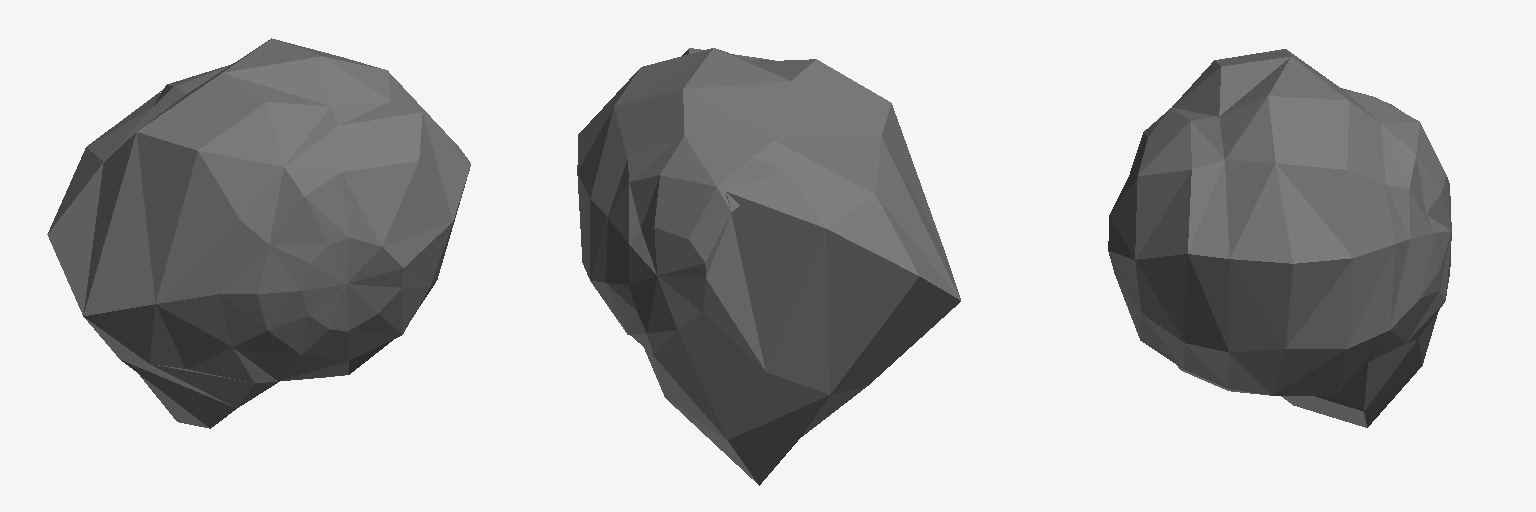
Rendered from rock2.obj.
3 views of the same model, side by side, from view 1: azimuth 30°, elevation 25°; view 2: azimuth 150°, elevation 25°; view 3: azimuth 270°, elevation 25° (orthographic).
Parts seen in each view (by area): view 1: Vertex_Object; view 2: Vertex_Object; view 3: Vertex_Object.
Part boxes in pixels (x1,y1,x2,y2): Vertex_Object: (47,38,470,428); Vertex_Object: (577,48,960,485); Vertex_Object: (1108,49,1451,427).
Bounding box in the file's own units: 114 × 113 × 92.99.